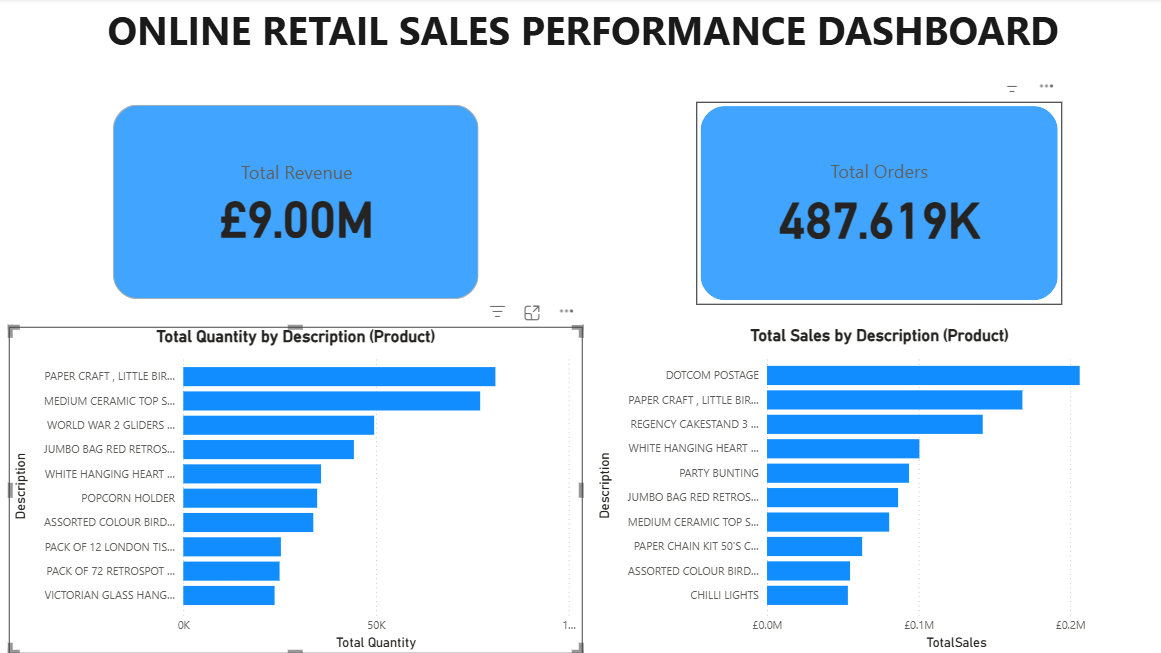

Layout of this report page (visuals, bound fields, positions):
{"tool":"powerbi","page":{"name":"Page 1","canvas":[1280,720],"ordinal":0},"visuals":[{"type":"barChart","title":"Total Quantity by Description (Product)","fields":{"Category":["OnlineRetail_Clean.Description"],"Y":["Sum(OnlineRetail_Clean.Quantity)"]},"box":[0,360.9,639.5,359.5],"z":0},{"type":"barChart","title":"Total Sales by Description (Product)","fields":{"Category":["OnlineRetail_Clean.Description"],"Y":["Sum(OnlineRetail_Clean.TotalSales)"]},"box":[650.4,359.5,629.8,360.9],"z":1000},{"type":"cardVisual","fields":{"Data":["Sum(OnlineRetail_Clean.TotalSales)"]},"box":[119.4,112.5,411.7,223.7],"z":2000},{"type":"cardVisual","fields":{"Data":["CountNonNull(OnlineRetail_Clean.InvoiceNo)"]},"box":[764.3,113.9,402.1,223.7],"z":2001},{"type":"textbox","box":[0,0,1280.3,93.3],"z":2002}]}

Visuals, with their boxes in screenshot pixels (x1, y1, x2, y2), scaled from the page's 1280x720 canvas onto the 1161x653 screenshot:
"Total Quantity by Description (Product)" barChart: bbox=[0, 327, 580, 652]
"Total Sales by Description (Product)" barChart: bbox=[590, 326, 1160, 652]
cardVisual - Sum(OnlineRetail_Clean.TotalSales): bbox=[108, 102, 482, 305]
cardVisual - CountNonNull(OnlineRetail_Clean.InvoiceNo): bbox=[693, 103, 1058, 306]
textbox: bbox=[0, 0, 1160, 85]
